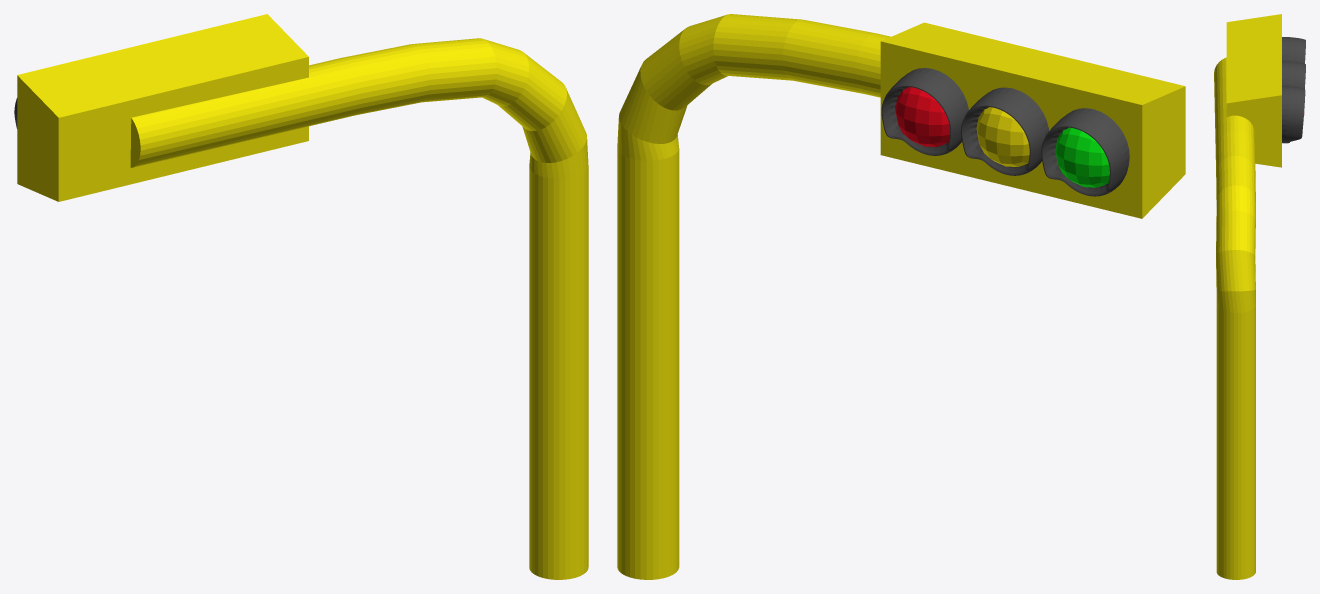
The model's file is semaforo1.fbx.
The picture shows the model from 3 angles, left to right: view 1: azimuth 30°, elevation 25°; view 2: azimuth 150°, elevation 25°; view 3: azimuth 270°, elevation 25°; orthographic projection. The views are drawn at different scales.
Visible parts, largest first — view 1: Semaforo; view 2: Semaforo; view 3: Semaforo.
Boxes of the visible parts, x1,y1,x2,y2 form: Semaforo: [14, 14, 588, 579]; Semaforo: [617, 14, 1185, 579]; Semaforo: [1214, 14, 1305, 579].
Size of the model in its own units: 2075 by 2198 by 466.
